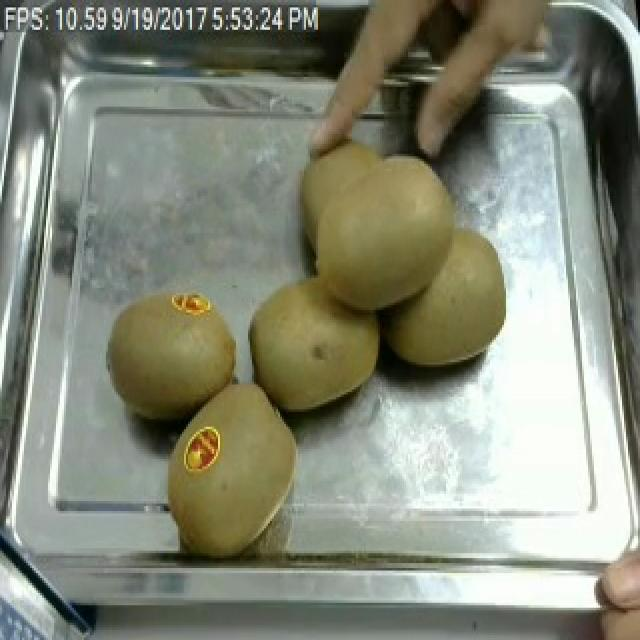Fruit: (290, 129, 474, 320), (154, 370, 308, 560), (372, 216, 518, 377), (102, 280, 250, 432), (240, 273, 392, 419)
